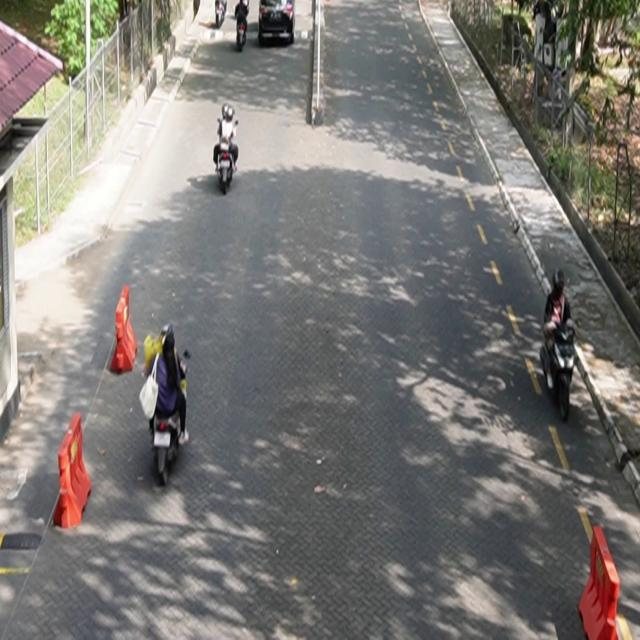car: (259, 1, 296, 46)
